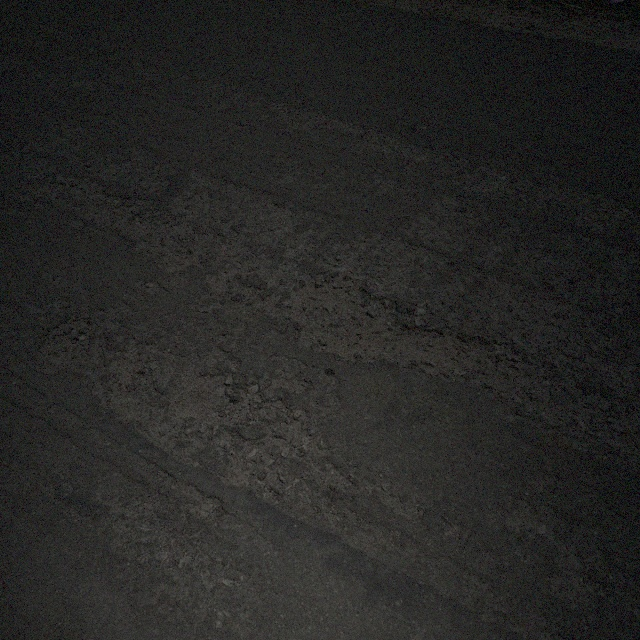pothole: (284, 276, 500, 384), (71, 175, 213, 269), (33, 314, 99, 370)
